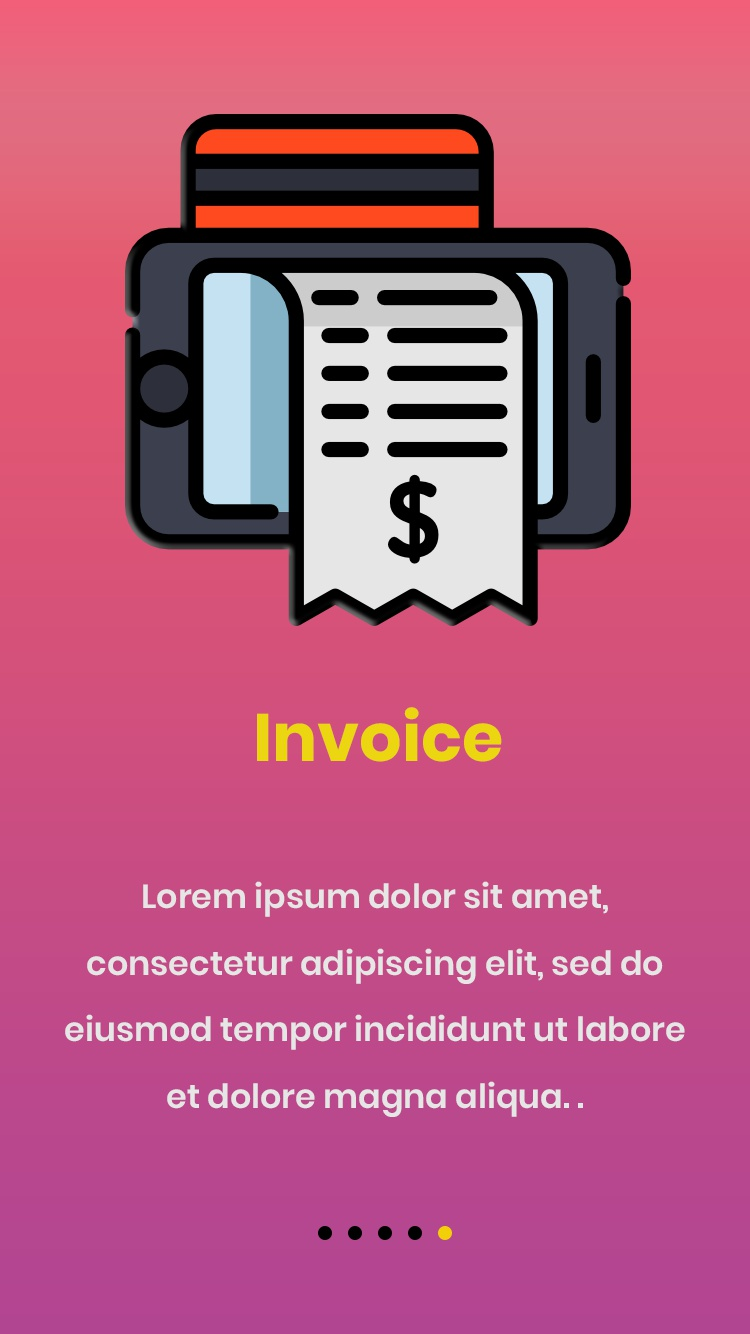Image: (124, 113, 632, 628)
PageIndicator: (316, 1224, 455, 1243)
Text: (64, 880, 686, 1119), (256, 706, 503, 764)
